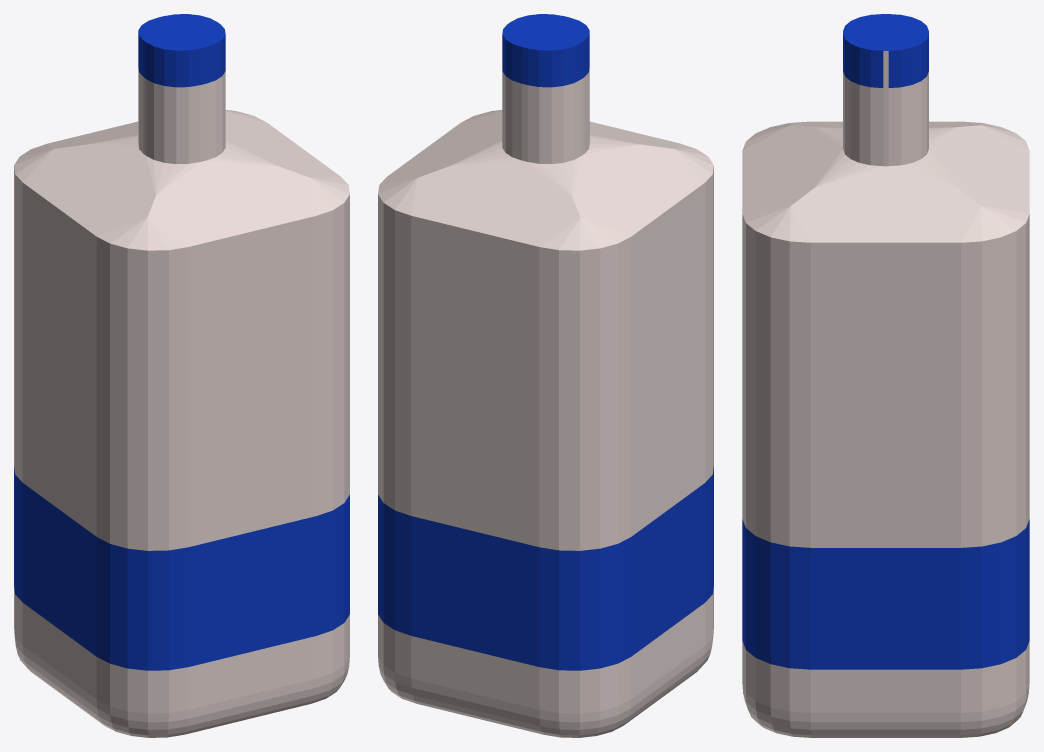
File: whole_2pt.glb
3 views of the same model, side by side, from view 1: azimuth 30°, elevation 25°; view 2: azimuth 150°, elevation 25°; view 3: azimuth 270°, elevation 25° (orthographic).
Visible parts, largest first — view 1: Cube, Cube.001, Cube.002; view 2: Cube, Cube.001, Cube.002; view 3: Cube, Cube.001, Cube.002.
Part boxes in pixels (left/top/right/bottom): Cube: left=14, top=68, right=349, bottom=737; Cube.001: left=14, top=466, right=349, bottom=670; Cube.002: left=138, top=14, right=225, bottom=87; Cube: left=378, top=68, right=713, bottom=737; Cube.001: left=378, top=466, right=713, bottom=670; Cube.002: left=502, top=14, right=589, bottom=87; Cube: left=742, top=51, right=1029, bottom=737; Cube.001: left=742, top=519, right=1029, bottom=669; Cube.002: left=843, top=14, right=928, bottom=87.
Bounding box in the file's own units: 0.2 × 0.5 × 0.2.
